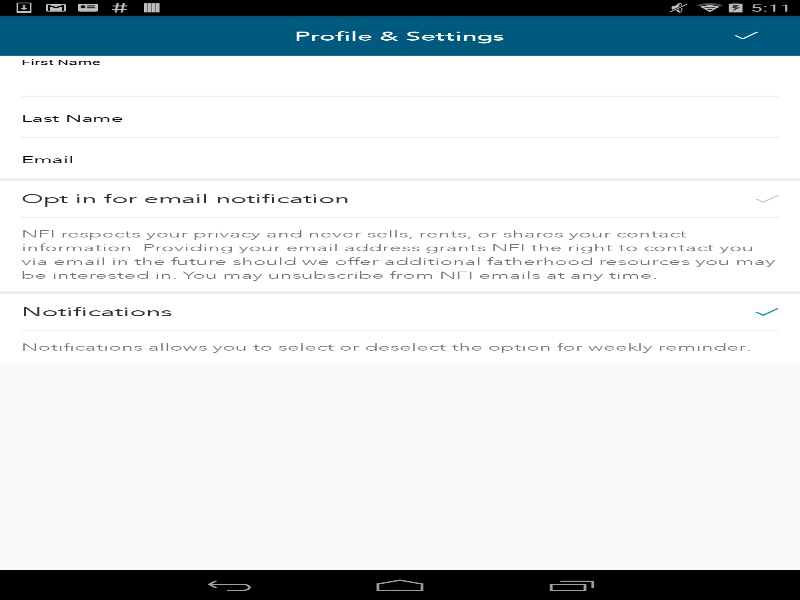Button: (704, 18, 789, 53)
Input: (21, 65, 778, 90), (21, 106, 778, 131), (21, 147, 778, 172)
